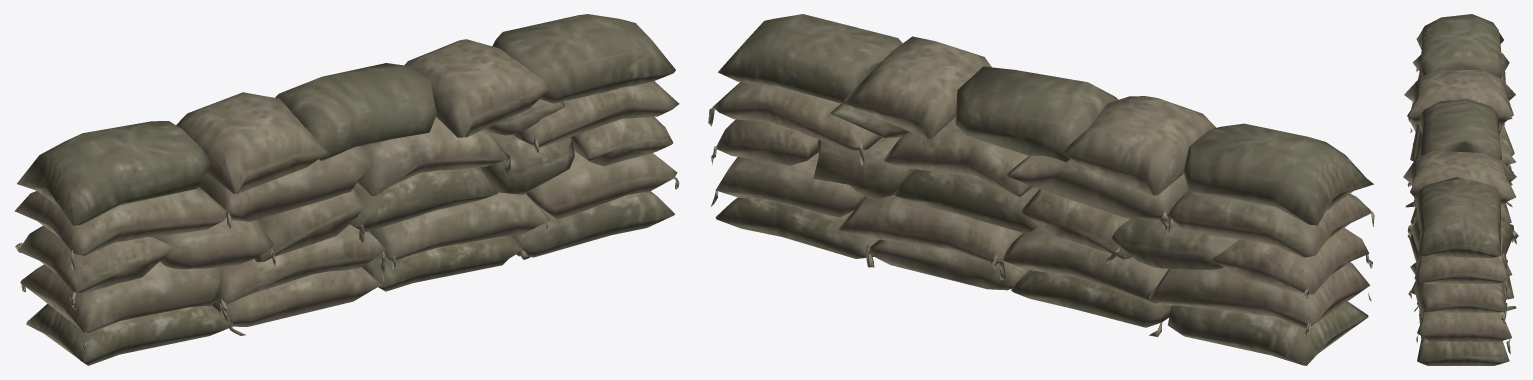
File: sandbag_wall.glb
3 views of the same model, side by side, from view 1: azimuth 30°, elevation 25°; view 2: azimuth 150°, elevation 25°; view 3: azimuth 270°, elevation 25° (orthographic). The views are drawn at different scales.
Visible parts, largest first — view 1: hull; view 2: hull; view 3: hull.
Part boxes in pixels (x1=…): hull: x1=14, y1=14, x2=679, y2=365; hull: x1=708, y1=14, x2=1374, y2=365; hull: x1=1403, y1=14, x2=1518, y2=365.
Bounding box in the file's own units: 4 × 1.26 × 0.8721.
Materials: 1 (1 with a texture image).
